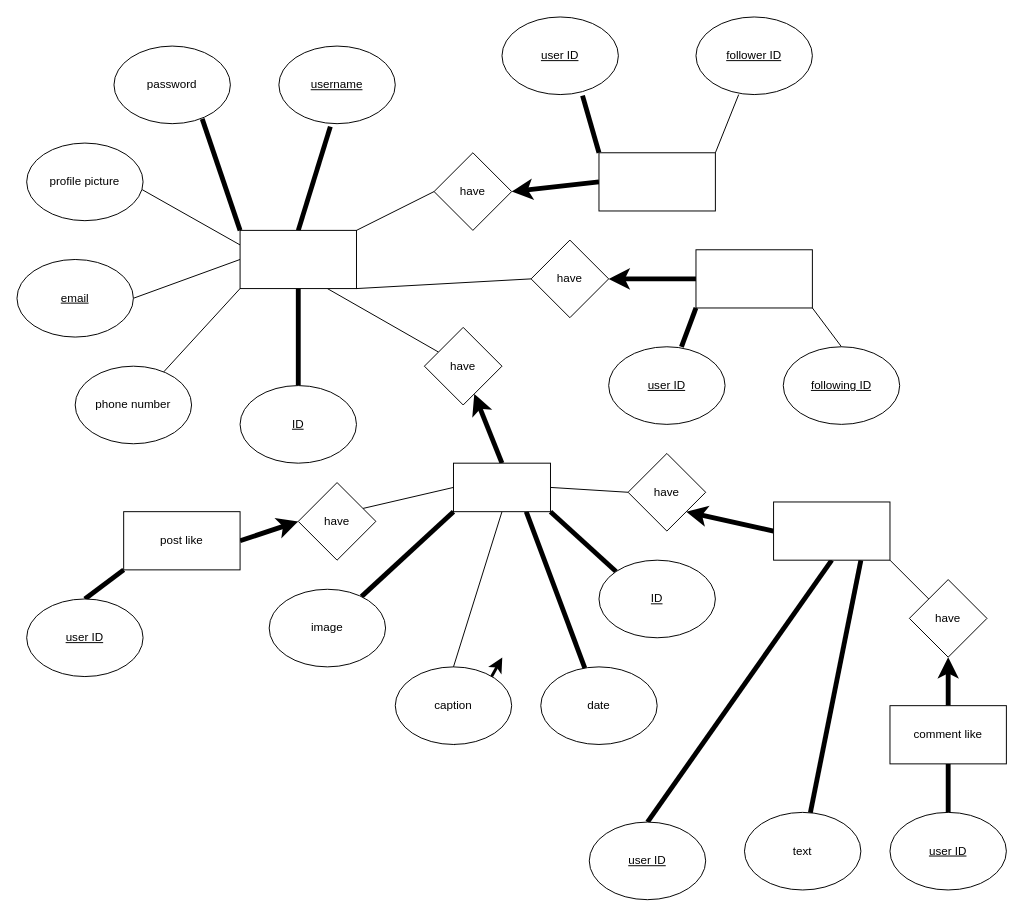
The diagram is 1023 pixels wide and 917 high, and some of its shapes have lost their labels. The centre of each missing label's shape, as x and y in pixels:
comment: the point at 831,530
post: the point at 501,487
User: the point at 297,259
user followers: the point at 656,181
user following: the point at 753,278
